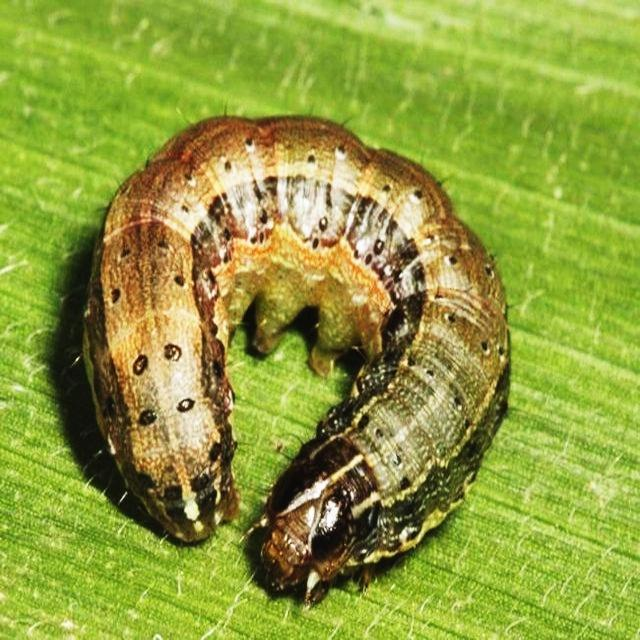gusano_cogollero: (72, 112, 514, 603)
